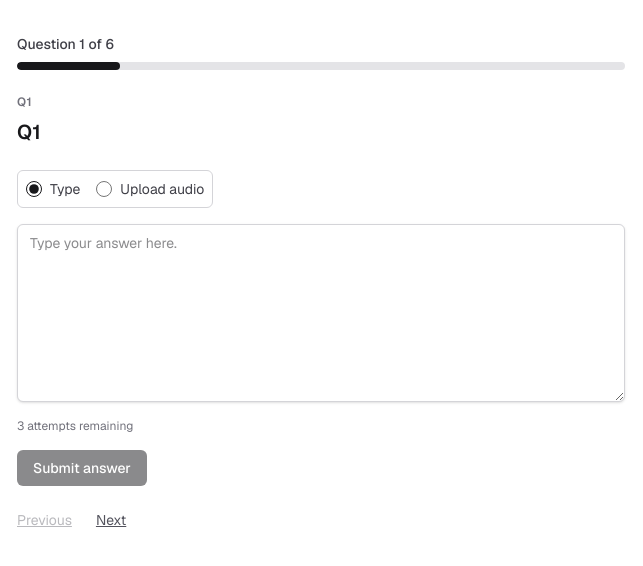
shows an inline error when submit rejects
This screenshot has width=643, height=566.
Expected: the text "Question 1 of 6" is shown, [17, 35, 114, 53]
Type "x" into the text box labelled "your answer". click: point(321, 313)
box: [17, 224, 625, 402]
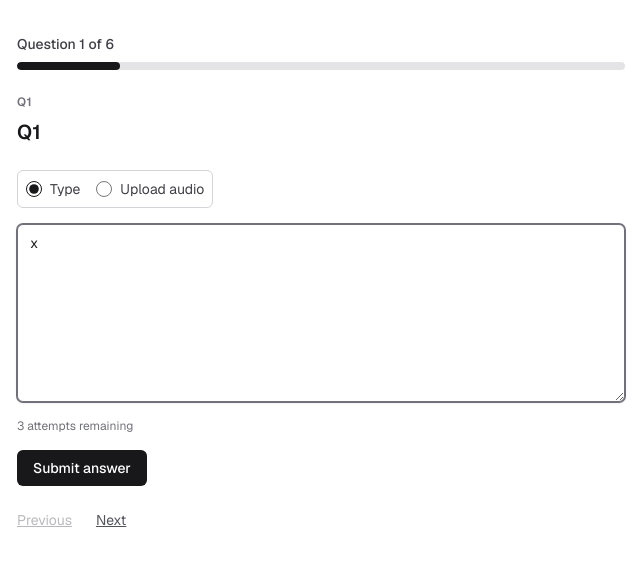
Click the button "Submit answer". click: point(82, 468)
box: [17, 450, 147, 486]
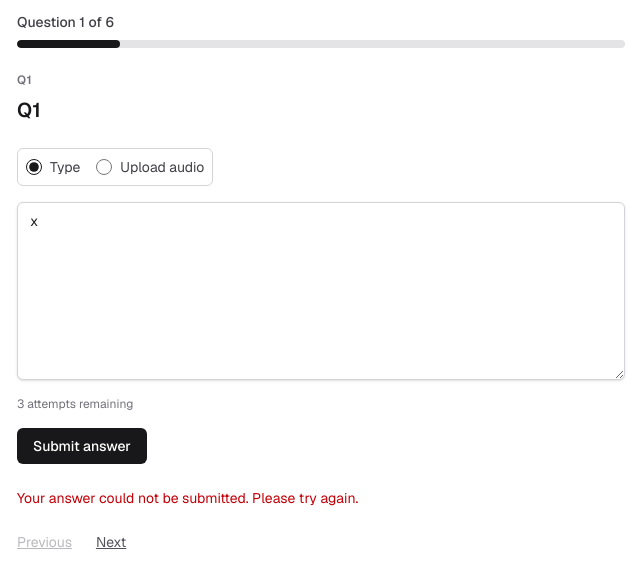
Result: the text "Your answer could not be submitted. Please try again." is shown at [17, 489, 358, 507]
